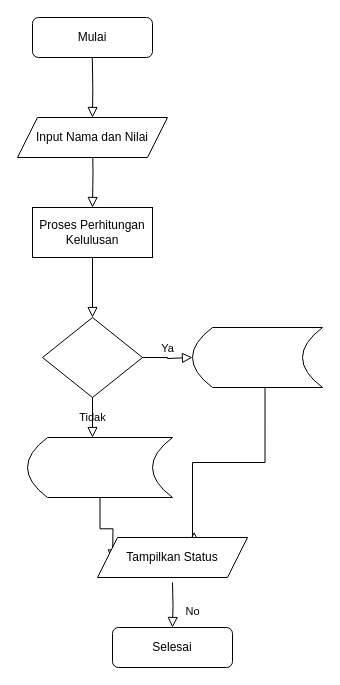
This 340x685 diagram has some shape labels left out. Here are the shapes that lost their labels. From the top down, the centre of each, then its label:
pixel 92 357: Nilai >= 60?
pixel 257 357: Status = "Lulus"
pixel 99 467: Status = "Tidak Lulus"
